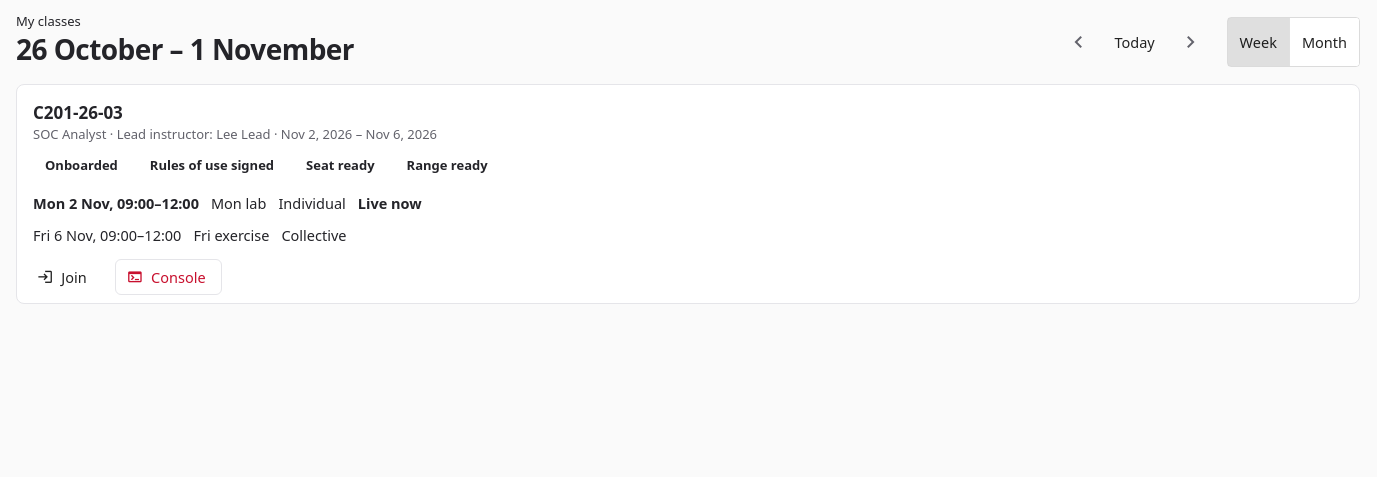
it: MyClassesComponent › Console lists the Student's machines and opens a one-time ticket on one
Click the button with class "console" at (168, 277), box [115, 259, 222, 295]
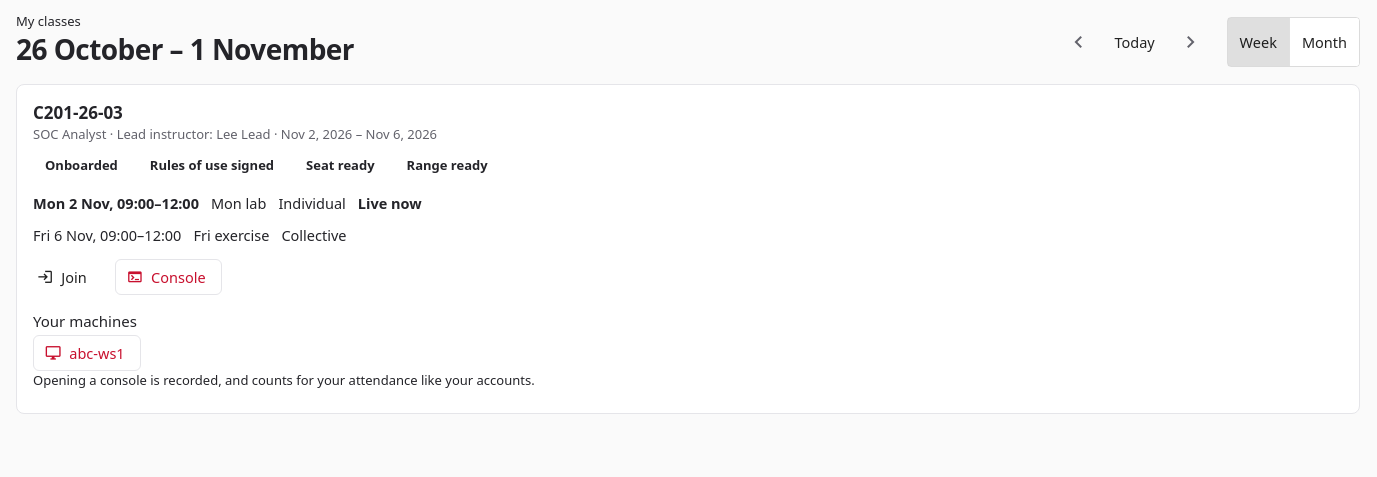
expect the button "abc-ws1" is shown: met
Click the button "abc-ws1" at (87, 353), box [33, 335, 141, 371]
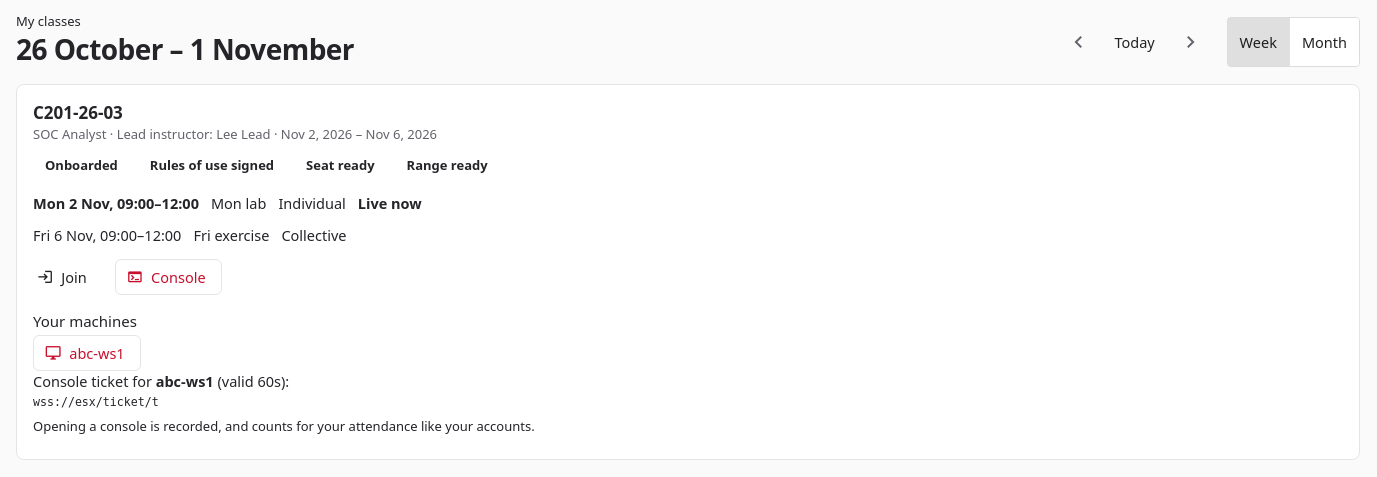
expect the element with class "ticket" shows "wss://esx/ticket/t": met, box [33, 395, 159, 409]
